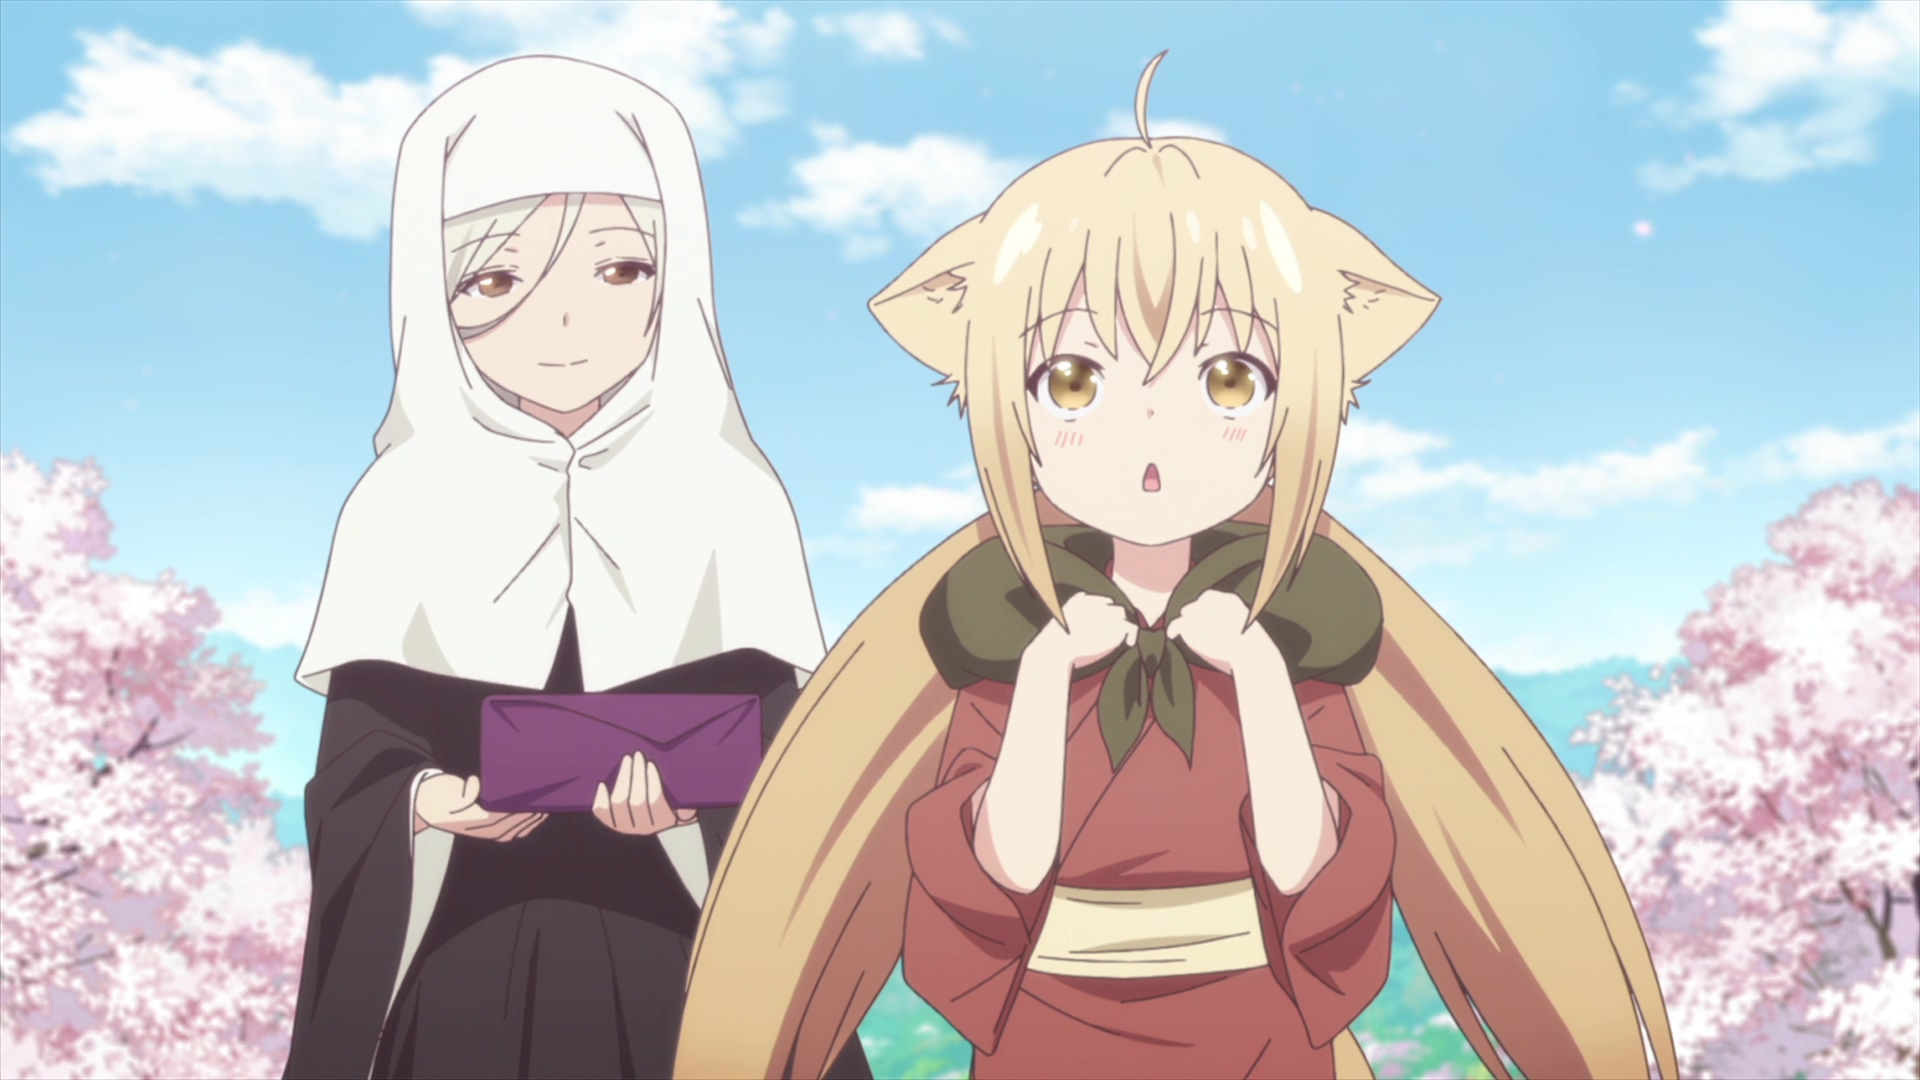八百比丘尼: (280, 51, 874, 1080)
柚: (673, 50, 1683, 1080)
